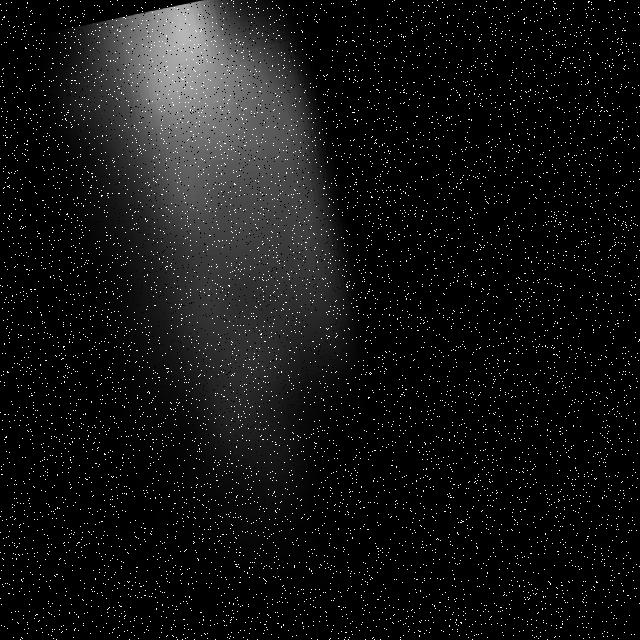person: (48, 1, 418, 555)
